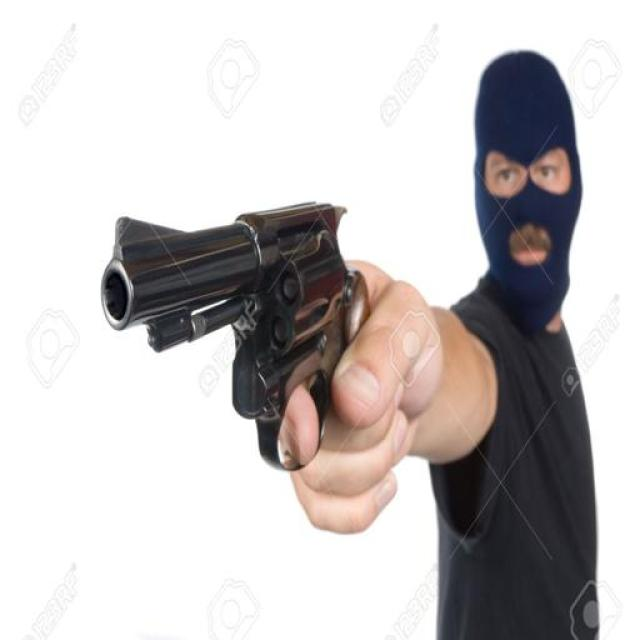pistol: (99, 159, 375, 501)
